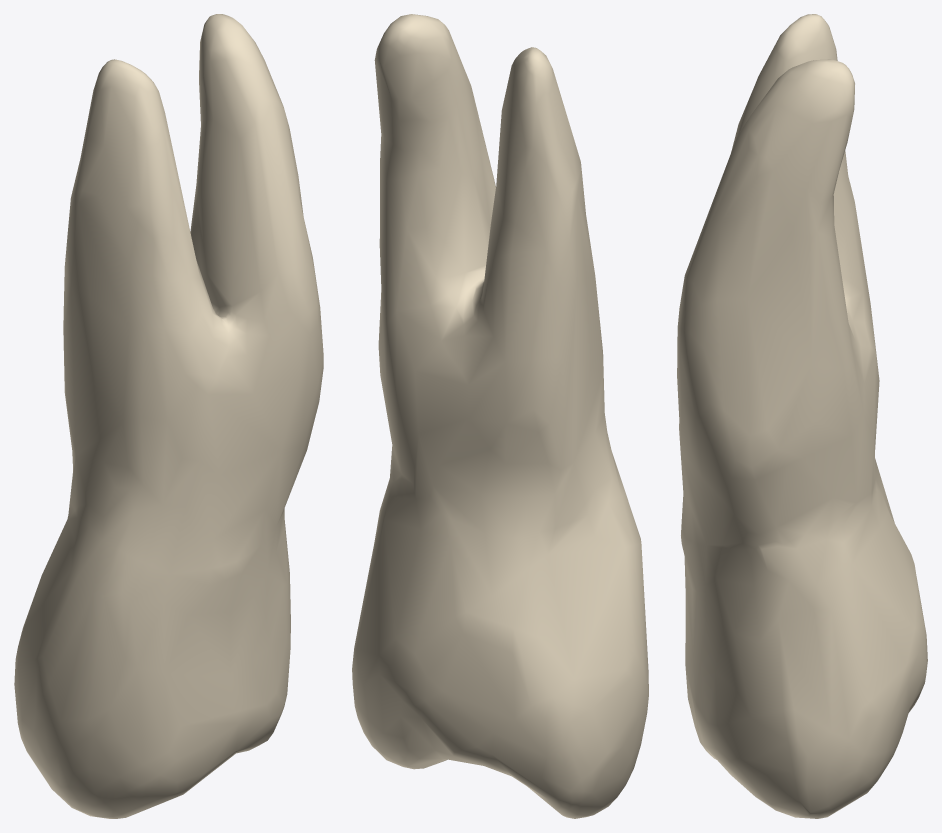
The model's file is upper-second-premolar-r.glb.
3 views of the same model, side by side, from view 1: azimuth 30°, elevation 25°; view 2: azimuth 150°, elevation 25°; view 3: azimuth 270°, elevation 25° (orthographic). The views are drawn at different scales.
Visible parts, largest first — view 1: Upper second premolar.r; view 2: Upper second premolar.r; view 3: Upper second premolar.r.
Part boxes in pixels (x1,y1,x2,y2): Upper second premolar.r: (14, 14, 323, 818); Upper second premolar.r: (352, 14, 648, 818); Upper second premolar.r: (677, 14, 927, 818).
Size of the model in its own units: 0.00909 by 0.0253 by 0.00743.
